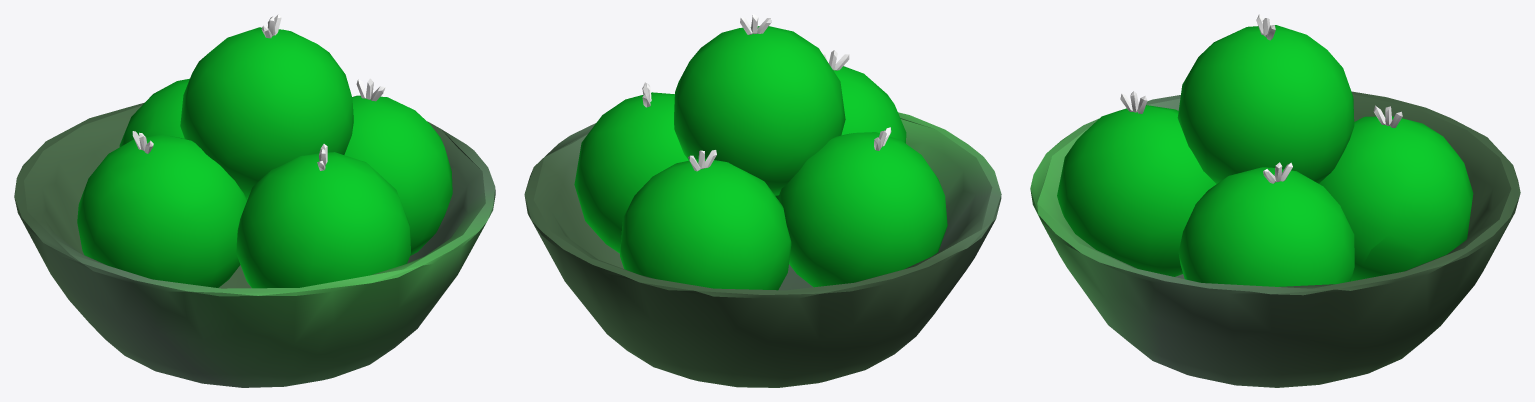
Rendered from BAnquete.fbx.
3 views of the same model, side by side, from view 1: azimuth 30°, elevation 25°; view 2: azimuth 150°, elevation 25°; view 3: azimuth 270°, elevation 25° (orthographic). The views are drawn at different scales.
Parts seen in each view (by area): view 1: Sphere.002, Circle; view 2: Sphere.002, Circle; view 3: Sphere.002, Circle.
Part boxes in pixels (left/top/right/bottom): Sphere.002: left=77, top=14, right=452, bottom=288; Circle: left=14, top=102, right=495, bottom=387; Sphere.002: left=574, top=14, right=947, bottom=290; Circle: left=524, top=112, right=1001, bottom=387; Sphere.002: left=1057, top=14, right=1473, bottom=286; Circle: left=1030, top=91, right=1520, bottom=387.
Size of the model in its own units: 310 by 234 by 310.
